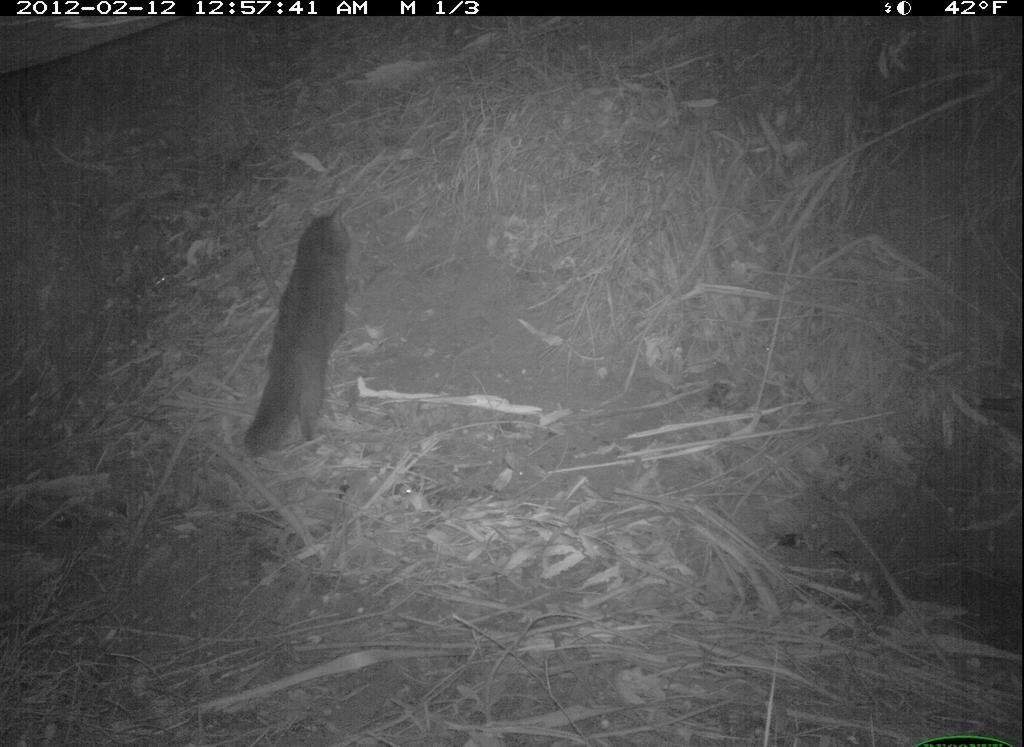cat: (240, 203, 363, 464)
